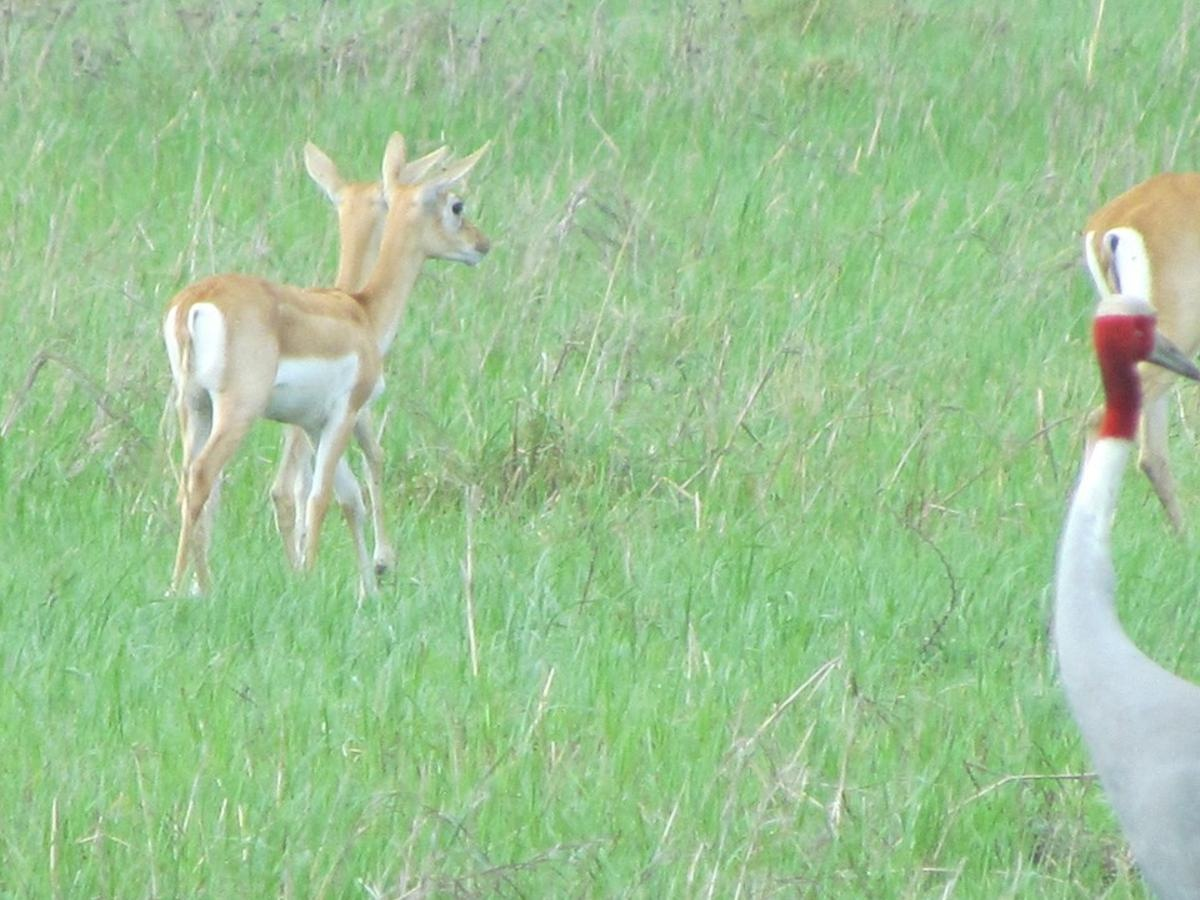crane: (1046, 303, 1200, 900)
